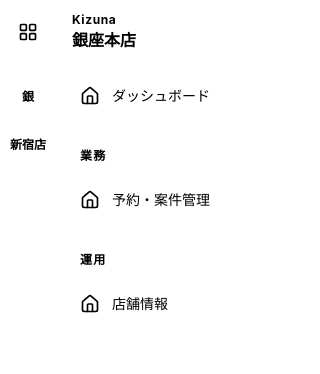
Sidebar › 文脈の切替 › 店舗級の画面にいる間もレールで「グループ」を選べる
The width and height of the screenshot is (320, 374).
Expected: the link "予約・案件管理" is shown, [80, 190, 210, 210]
Click the button named "グループ" at (28, 32), box [8, 12, 48, 52]
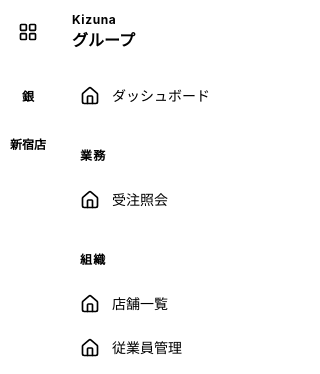
Expected: the link "受注照会" is shown, [80, 190, 168, 210]
